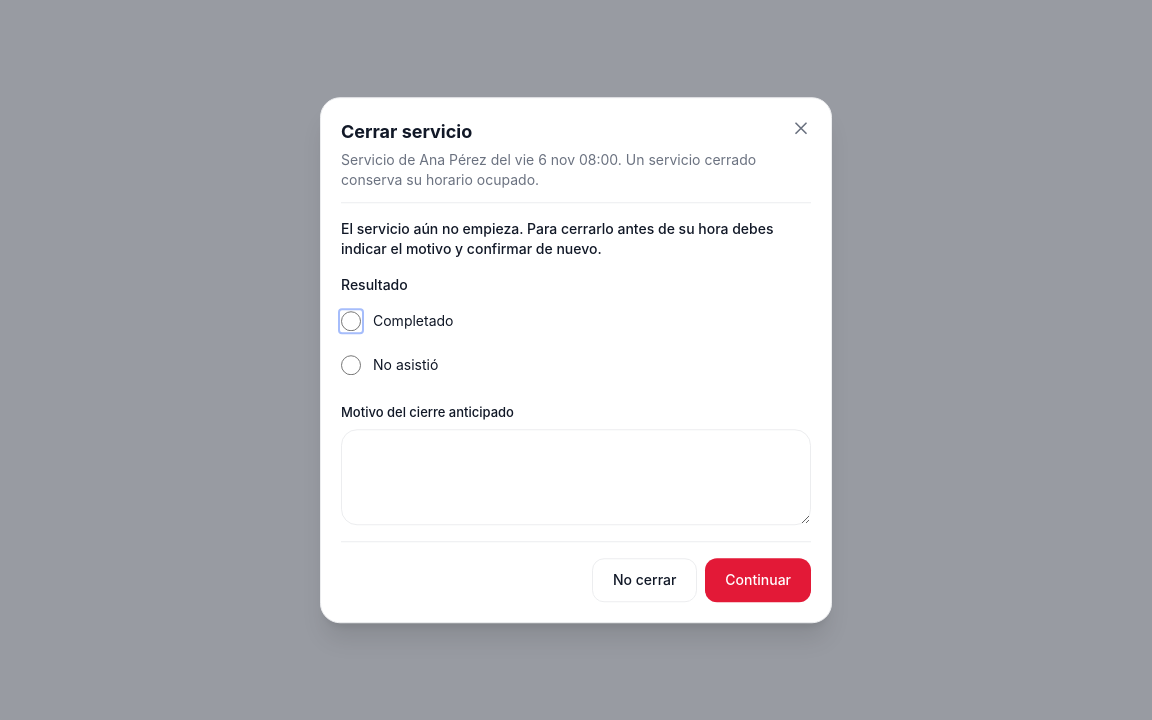
Test: ClosureDialog: cierre anticipado › advierte que la cita aún no empieza y exige el motivo
The image size is (1152, 720).
Expected: the text "El servicio aún no empieza" is shown, [341,220,774,257]
What coordinates should you click on to do the following:
click the radio button labelled "Completado"
I would click on:
 (351, 321)
Its box is [341,311,361,331].
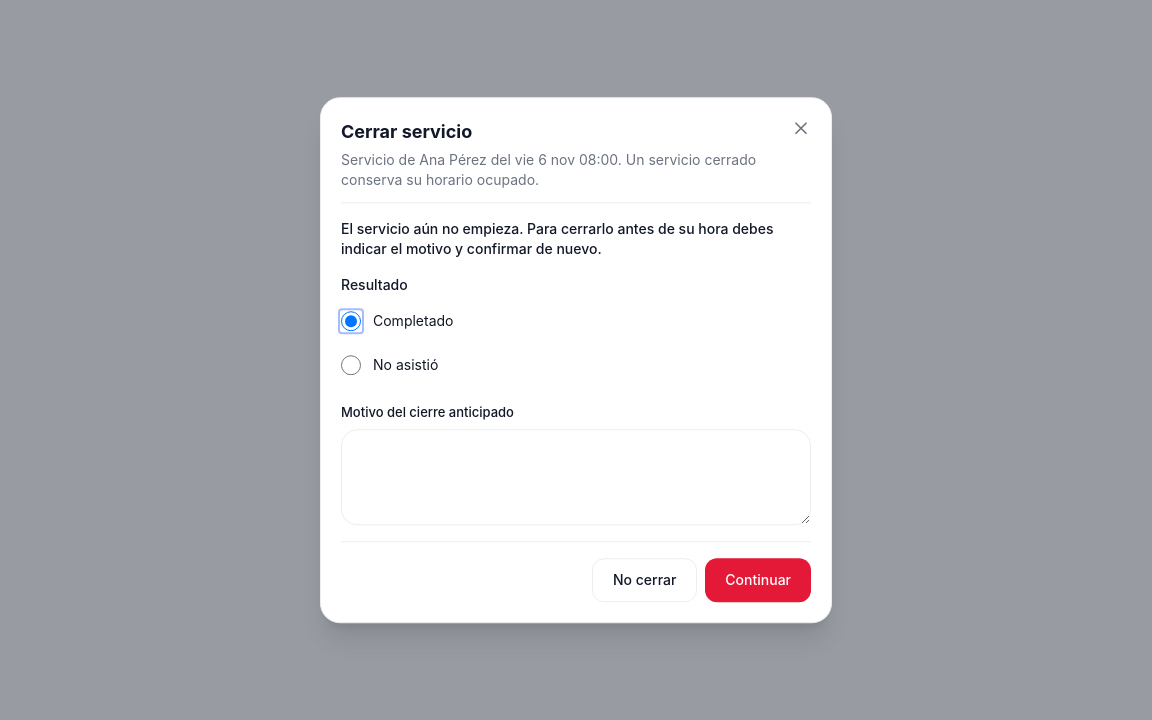
What coordinates should you click on to do the following:
click the button "Continuar"
I would click on:
 (758, 580)
Its box is [705,558,811,602].
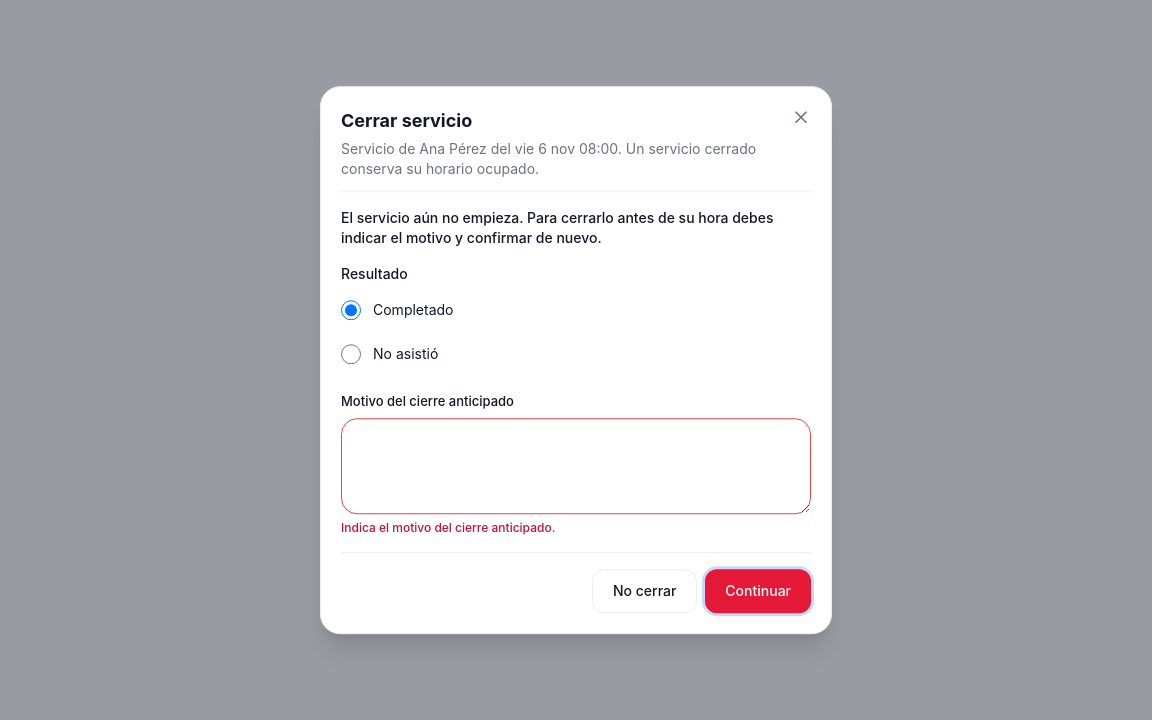
Result: the text "Indica el motivo del cierre anticipado." is shown at [341,520,555,535]
